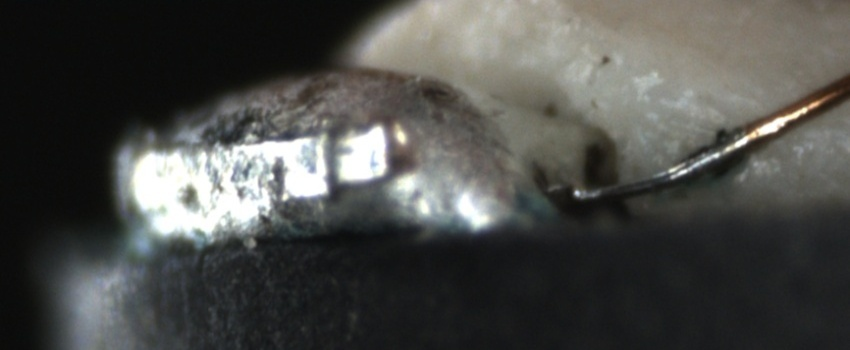TS: (573, 133, 753, 202)
